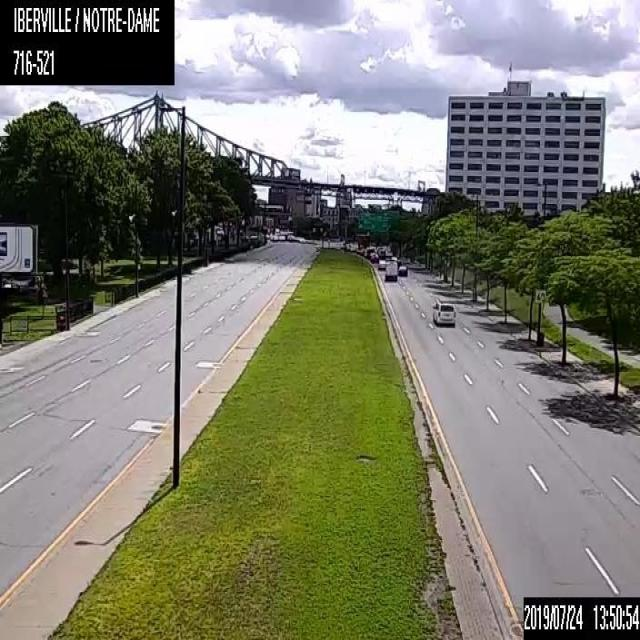vehicle: (431, 298, 456, 326), (385, 260, 397, 280), (357, 234, 370, 248), (398, 264, 408, 276), (376, 245, 384, 258), (390, 256, 401, 265), (370, 251, 378, 262), (377, 258, 385, 269)
